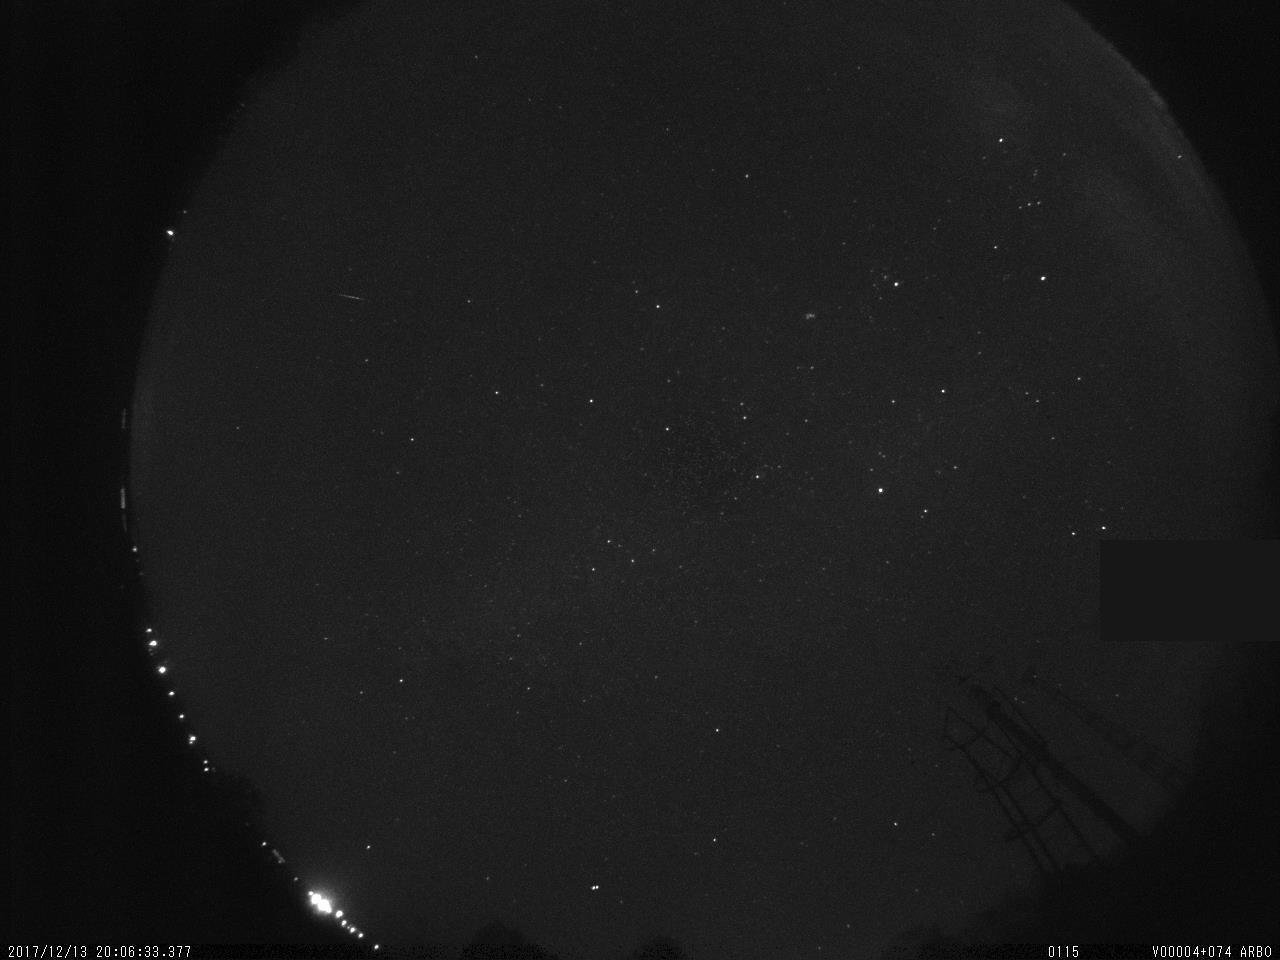meteor: (322, 275, 378, 307)
